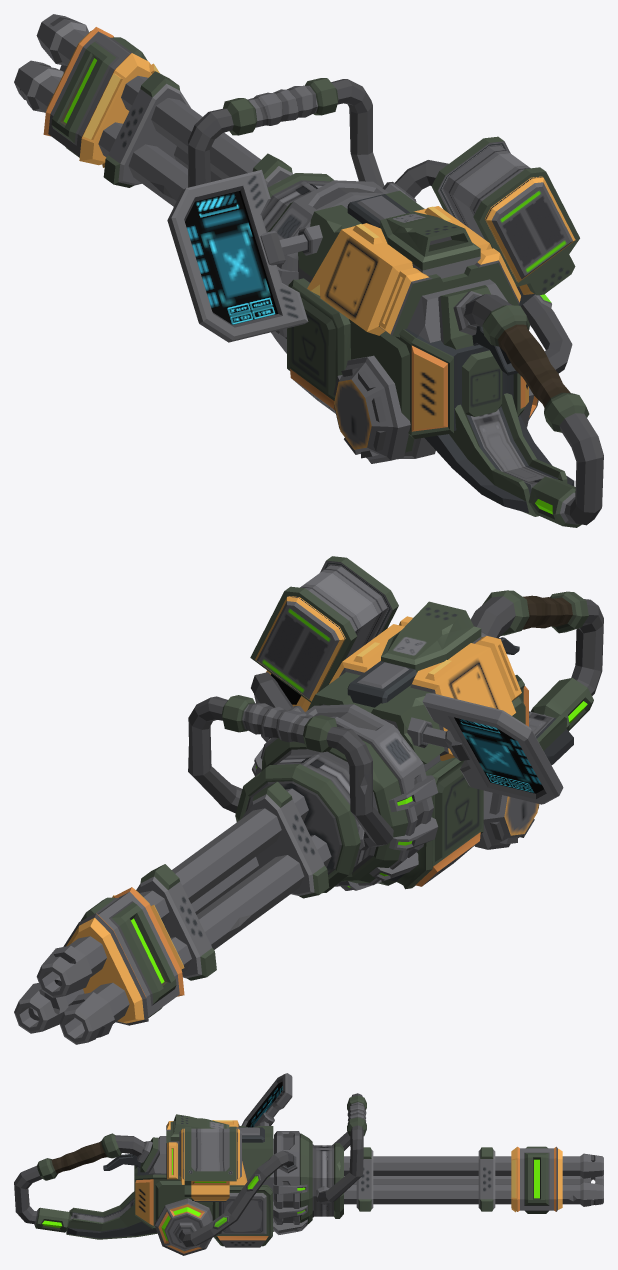
Rendered from gatling_gun.glb.
3 views of the same model, one above another, from view 1: azimuth 30°, elevation 25°; view 2: azimuth 150°, elevation 25°; view 3: azimuth 270°, elevation 25° (orthographic). The views are drawn at different scales.
Parts seen in each view (by area): view 1: SM_Wep_GattlingGun_01, SM_Wep_GattlingGun_01_Monitor_01; view 2: SM_Wep_GattlingGun_01, SM_Wep_GattlingGun_01_Monitor_01; view 3: SM_Wep_GattlingGun_01, SM_Wep_GattlingGun_01_Monitor_01.
Boxes of the visible parts, x1=… form: SM_Wep_GattlingGun_01: x1=14, y1=14, x2=603, y2=527; SM_Wep_GattlingGun_01_Monitor_01: x1=185, y1=191, x2=276, y2=324; SM_Wep_GattlingGun_01: x1=14, y1=556, x2=603, y2=1044; SM_Wep_GattlingGun_01_Monitor_01: x1=454, y1=717, x2=543, y2=793; SM_Wep_GattlingGun_01: x1=14, y1=1073, x2=603, y2=1255; SM_Wep_GattlingGun_01_Monitor_01: x1=248, y1=1083, x2=282, y2=1127.
Bounding box in the file's own units: 0.4542 × 0.3497 × 1.33.
1 material, 1 textured.
